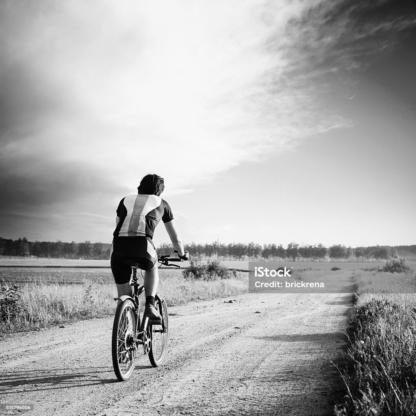Bicycle: (83, 248, 183, 390)
